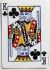king: (1, 1, 47, 67)
